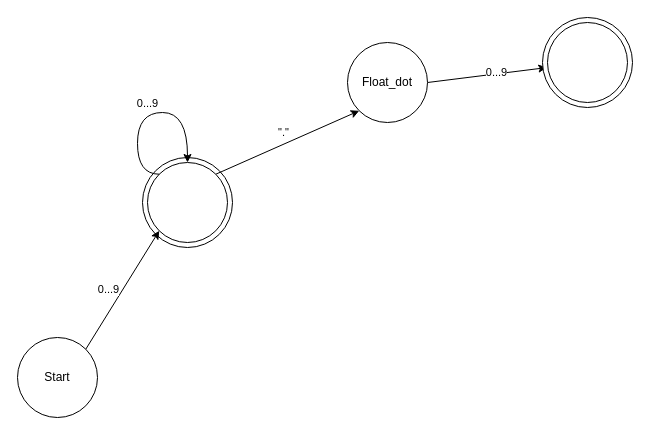
The diagram is 650 pixels wide and 435 high, and some of its shapes have lost their labels. Here are the shapes that lost their labels. From the top down, the centre of each, then its label:
[587,62]: Float
[187,202]: Int
